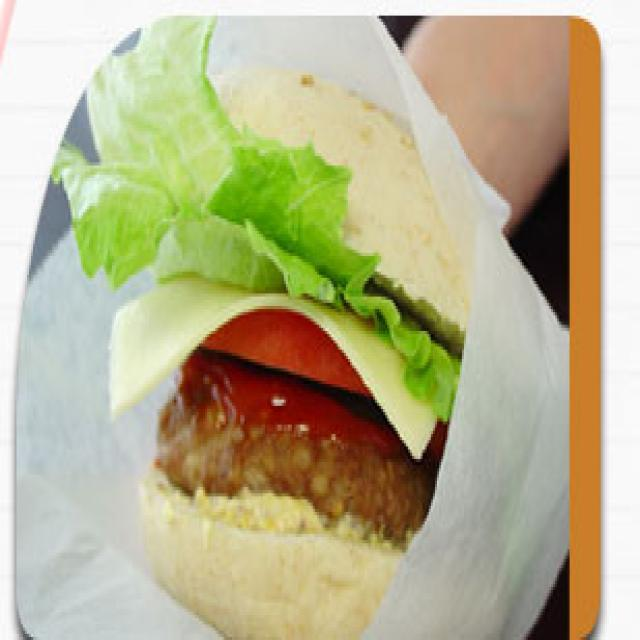Hamburger: (70, 32, 457, 626)
